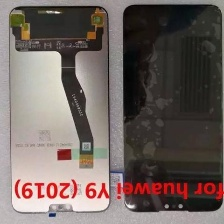phone: (6, 2, 113, 216), (119, 2, 224, 215)
